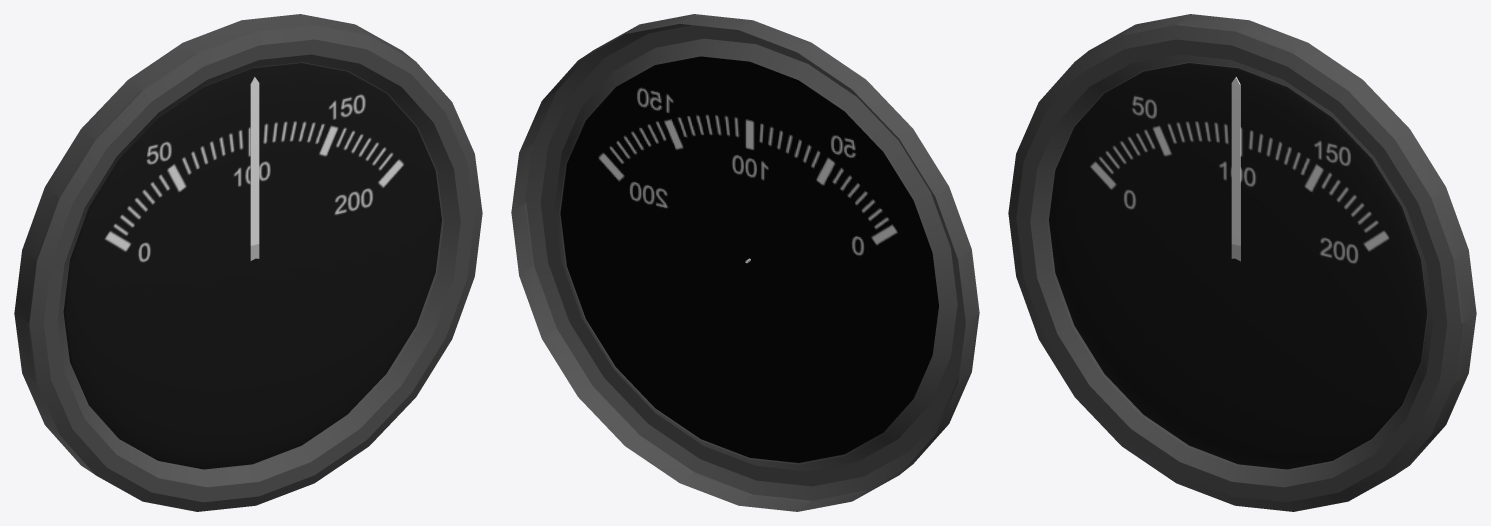
Rendered from Gauge_0-200Arc.obj.
3 renders of one model, left to right at view 1: azimuth 30°, elevation 25°; view 2: azimuth 150°, elevation 25°; view 3: azimuth 330°, elevation 25°, orthographic.
Visible parts, largest first — view 1: Face, Rim, NeedleMain; view 2: Face, Rim; view 3: Face, Rim, NeedleMain.
Part boxes in pixels (x1,y1,x2,y2): Face: (63, 63, 441, 469); Rim: (14, 14, 482, 511); NeedleMain: (250, 77, 259, 245); Face: (560, 56, 938, 462); Rim: (511, 14, 979, 511); Face: (1049, 63, 1427, 469); Rim: (1008, 14, 1476, 511); NeedleMain: (1231, 77, 1240, 245).
Size of the model in its own units: 0.0822 by 0.0822 by 0.00794.
